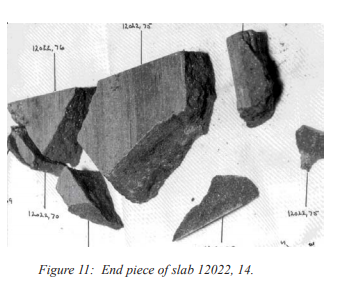Basalt: (88, 58, 266, 210), (226, 30, 307, 137), (17, 166, 115, 233), (21, 87, 96, 166), (178, 184, 267, 233), (298, 121, 330, 174)
